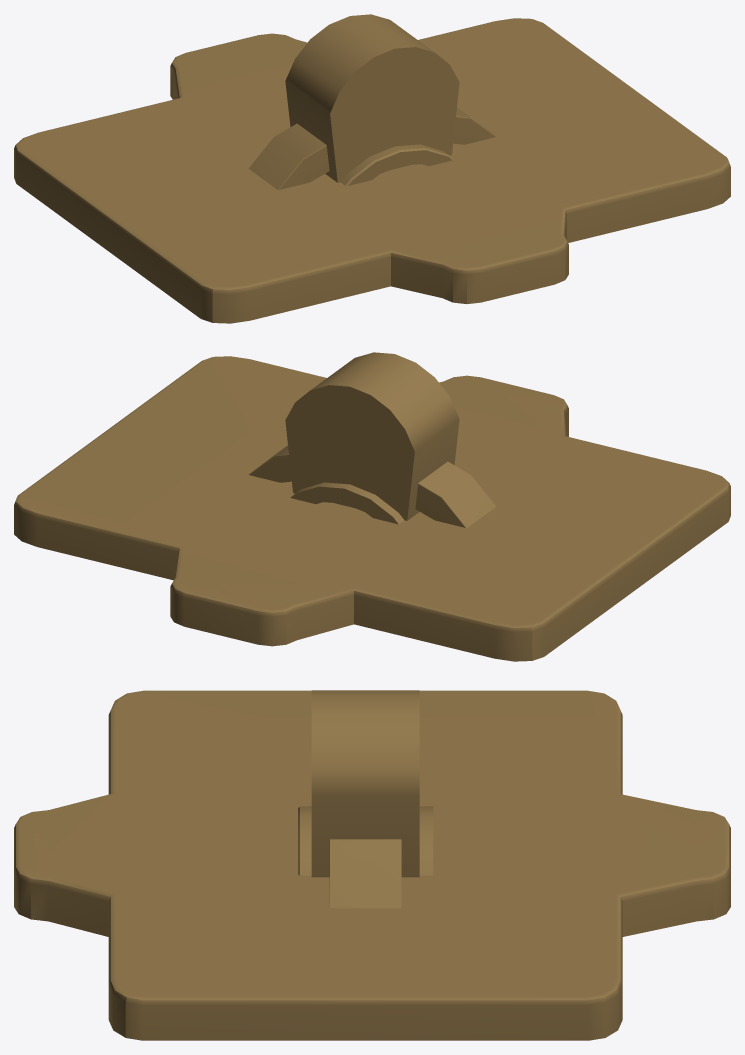
The model's file is 1 for unity.fbx.
3 views of the same model, one above another, from view 1: azimuth 30°, elevation 25°; view 2: azimuth 150°, elevation 25°; view 3: azimuth 270°, elevation 25° (orthographic). The views are drawn at different scales.
Visible parts, largest first — view 1: house_ground, door_basic, main_roof_bar, roof_cover; view 2: house_ground, door_basic, main_roof_bar, roof_cover; view 3: house_ground, door_basic, main_roof_bar, roof_cover.
Boxes of the visible parts, x1=… form: house_ground: x1=14, y1=18, x2=730, y2=323; door_basic: x1=285, y1=14, x2=459, y2=182; main_roof_bar: x1=248, y1=107, x2=495, y2=189; roof_cover: x1=340, y1=144, x2=453, y2=185; house_ground: x1=14, y1=356, x2=730, y2=661; door_basic: x1=285, y1=352, x2=459, y2=520; main_roof_bar: x1=249, y1=445, x2=496, y2=527; roof_cover: x1=290, y1=482, x2=404, y2=524; house_ground: x1=14, y1=690, x2=730, y2=1040; door_basic: x1=311, y1=690, x2=419, y2=877; main_roof_bar: x1=329, y1=839, x2=401, y2=908; roof_cover: x1=298, y1=806, x2=433, y2=875.
Bounding box in the file's own units: 1231 × 392 × 1199.
